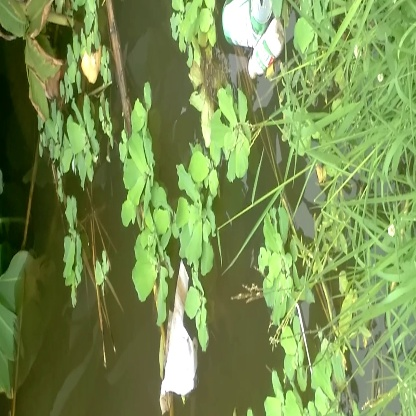bottle: (235, 20, 289, 80)
